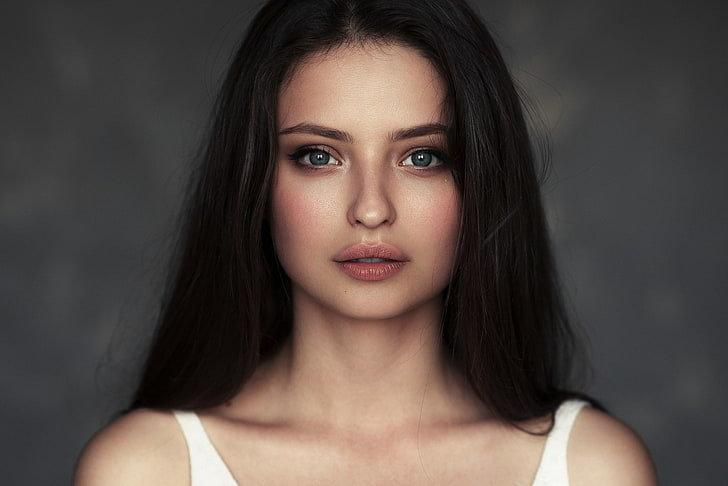Sober: (283, 55, 459, 299)
